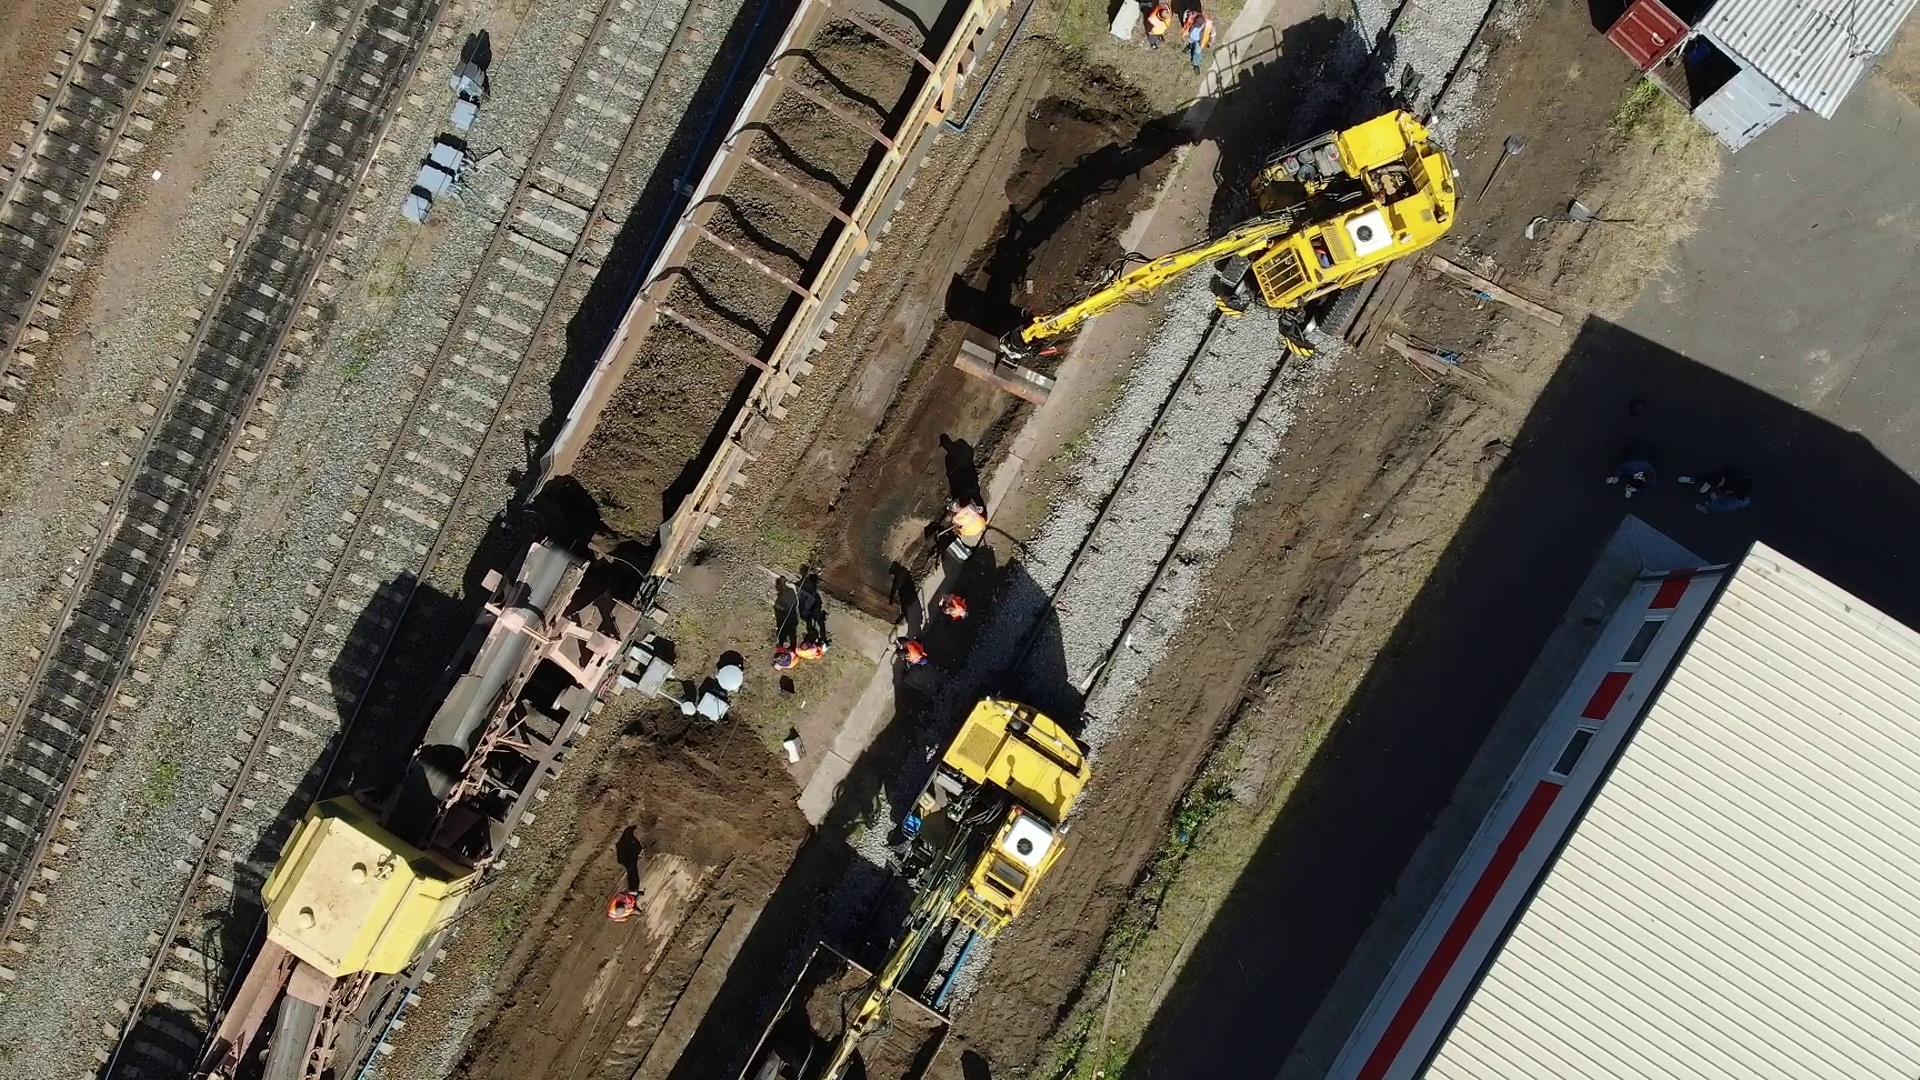kjtv: (861, 684, 1087, 1029), (1137, 112, 1473, 343)
